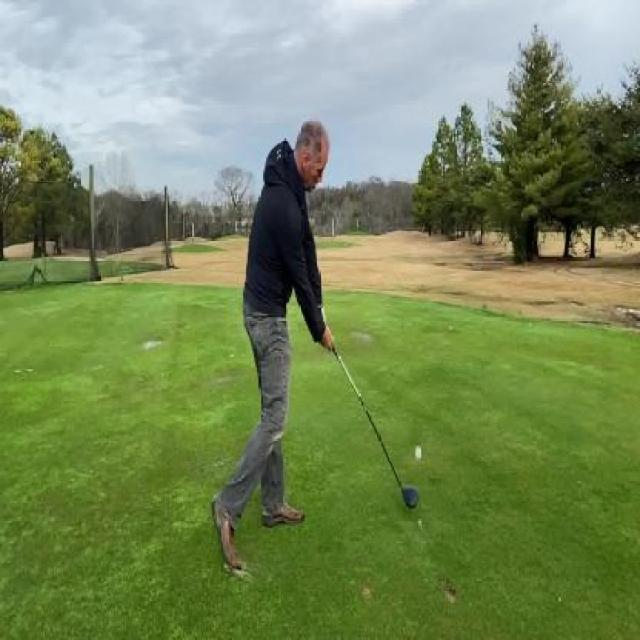club head: (398, 485, 418, 510)
